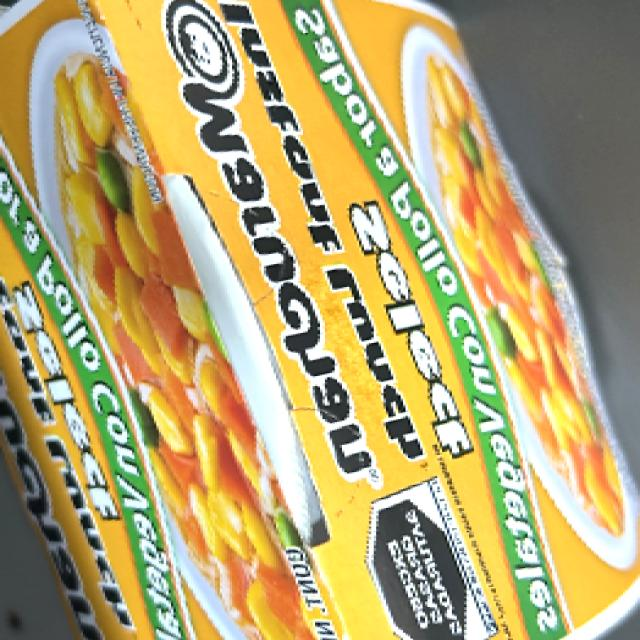maruchanPollo: (22, 9, 478, 636)
